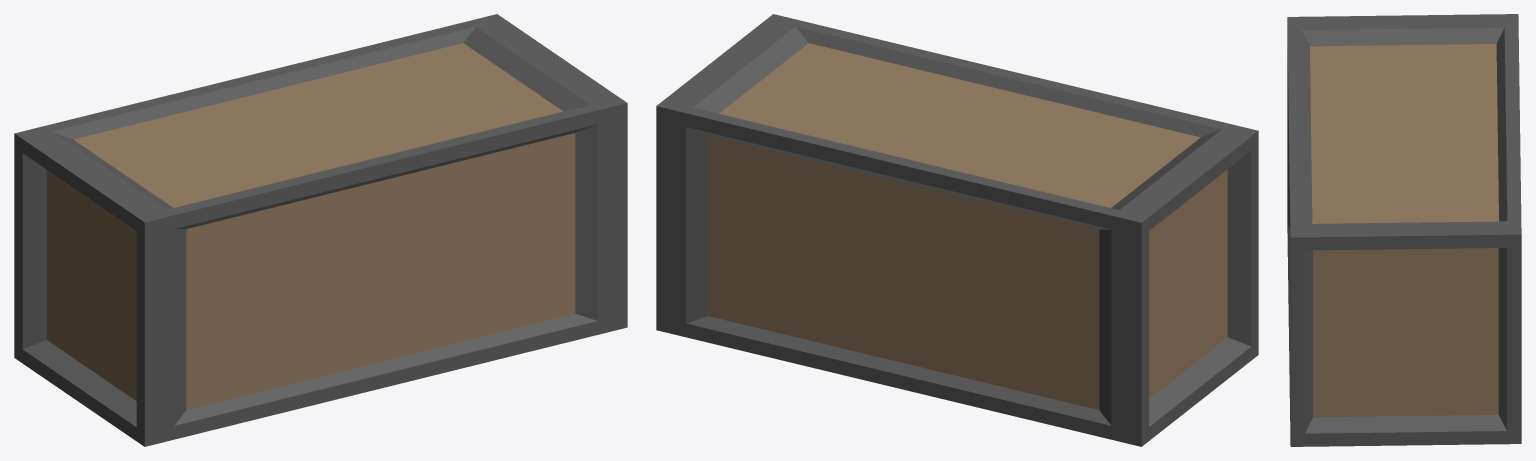
The model's file is env_CrateLong.fbx.
3 renders of one model, left to right at view 1: azimuth 30°, elevation 25°; view 2: azimuth 150°, elevation 25°; view 3: azimuth 270°, elevation 25°, orthographic. The views are drawn at different scales.
Parts seen in each view (by area): view 1: env_CrateLong_01; view 2: env_CrateLong_01; view 3: env_CrateLong_01.
Part boxes in pixels (x1,y1,x2,y2): env_CrateLong_01: [14, 14, 627, 446]; env_CrateLong_01: [656, 14, 1258, 446]; env_CrateLong_01: [1287, 14, 1521, 446].
Size of the model in its own units: 126 by 55 by 55.74.
